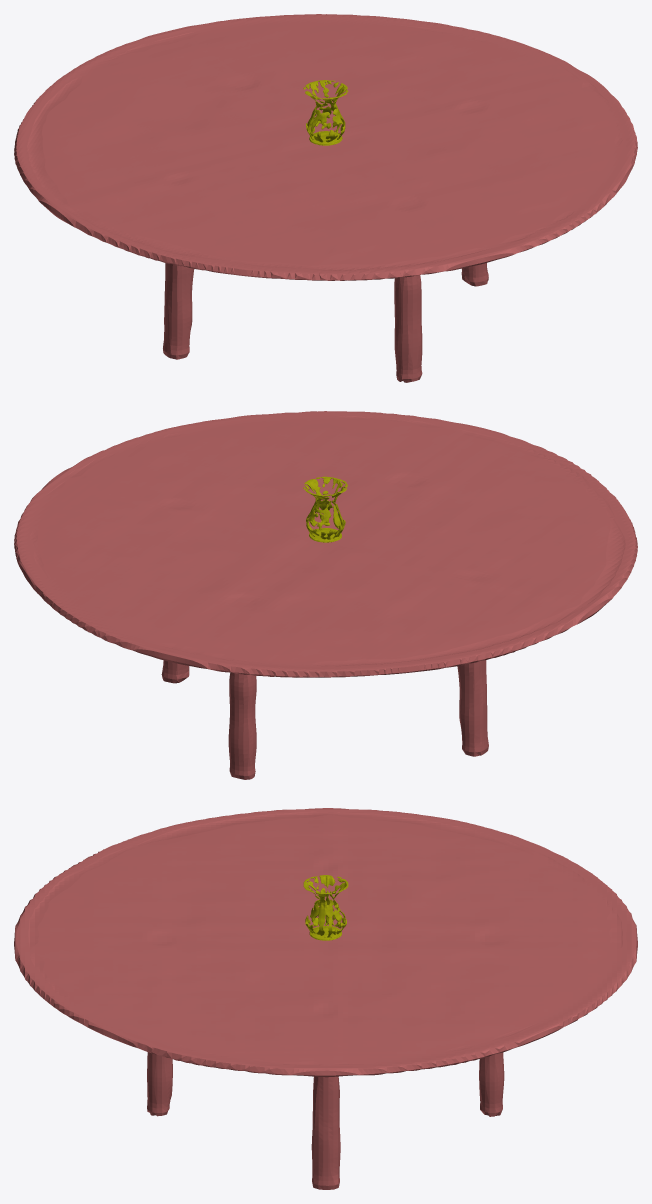
Rendered from final_chair_model.glb.
The picture shows the model from 3 angles, top to bottom: view 1: azimuth 30°, elevation 25°; view 2: azimuth 150°, elevation 25°; view 3: azimuth 270°, elevation 25°; orthographic projection.
Visible parts, largest first — view 1: world; view 2: world; view 3: world.
Part boxes in pixels (box(x1,y1,x2,y2)): world: box(14, 14, 637, 382); world: box(14, 411, 637, 779); world: box(14, 808, 637, 1189).
Bounding box in the file's own units: 4.56 × 1.83 × 4.55.
